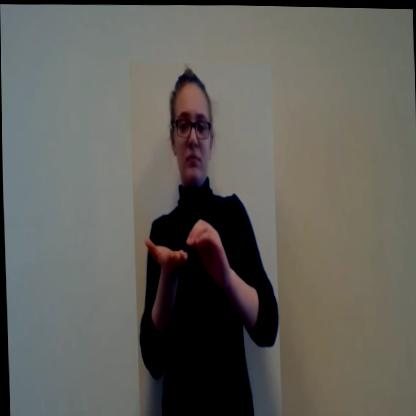ExcuseMe: (128, 59, 280, 416)
